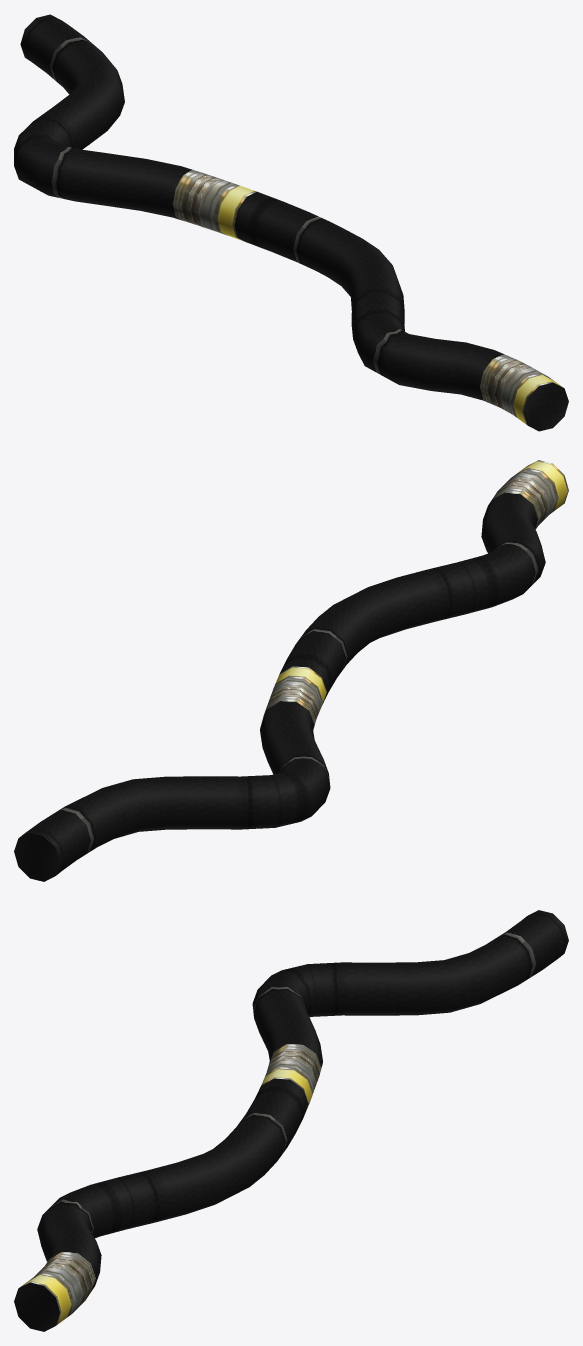
Rendered from SM_Hose8.fbx.
3 views of the same model, one above another, from view 1: azimuth 30°, elevation 25°; view 2: azimuth 150°, elevation 25°; view 3: azimuth 330°, elevation 25° (orthographic).
Visible parts, largest first — view 1: SM_Hose8_LOD0; view 2: SM_Hose8_LOD0; view 3: SM_Hose8_LOD0.
Boxes of the visible parts, x1,y1,x2,y2 form: SM_Hose8_LOD0: [14, 14, 568, 431]; SM_Hose8_LOD0: [14, 460, 568, 881]; SM_Hose8_LOD0: [14, 910, 568, 1331].
Size of the model in its own units: 40.9 by 200 by 9.99.
Materials: 1 (1 with a texture image).
